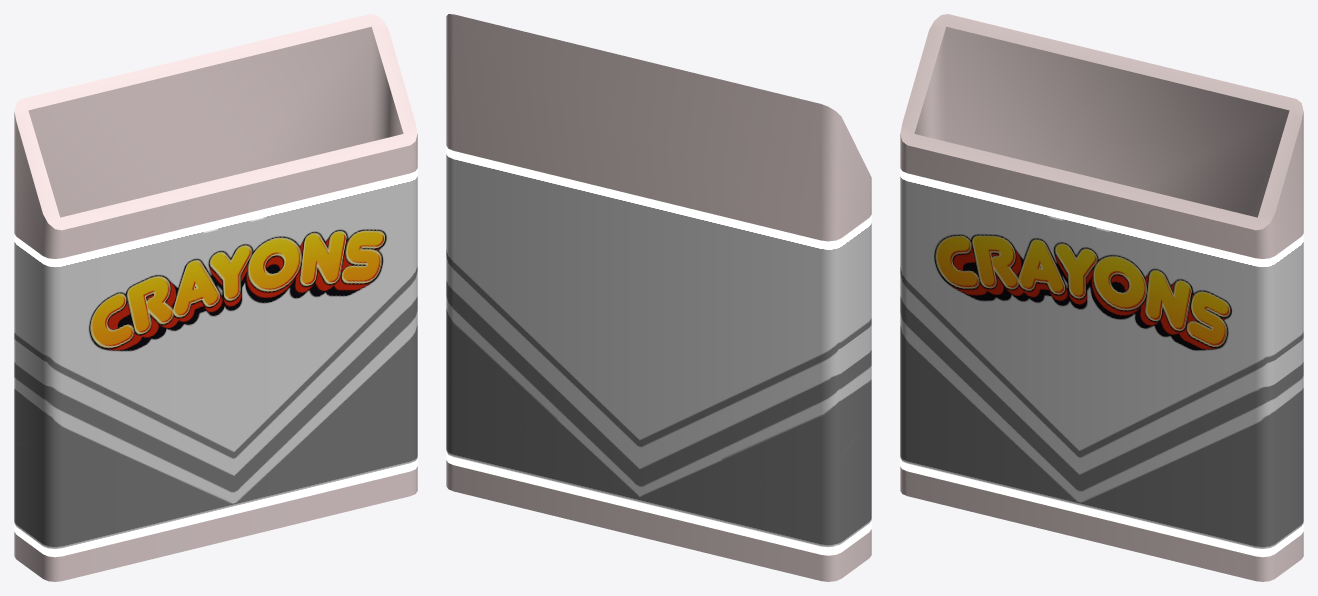
File: Crayons_Box 1.fbx
The picture shows the model from 3 angles, left to right: view 1: azimuth 30°, elevation 25°; view 2: azimuth 150°, elevation 25°; view 3: azimuth 330°, elevation 25°; orthographic projection. The views are drawn at different scales.
Parts seen in each view (by area): view 1: Cube; view 2: Cube; view 3: Cube.
Part boxes in pixels (x1,y1,x2,y2): Cube: [14, 14, 417, 581]; Cube: [446, 14, 871, 581]; Cube: [900, 14, 1303, 581].
Bounding box in the file's own units: 542 × 629 × 103.
Materials: 2 (1 with a texture image).
